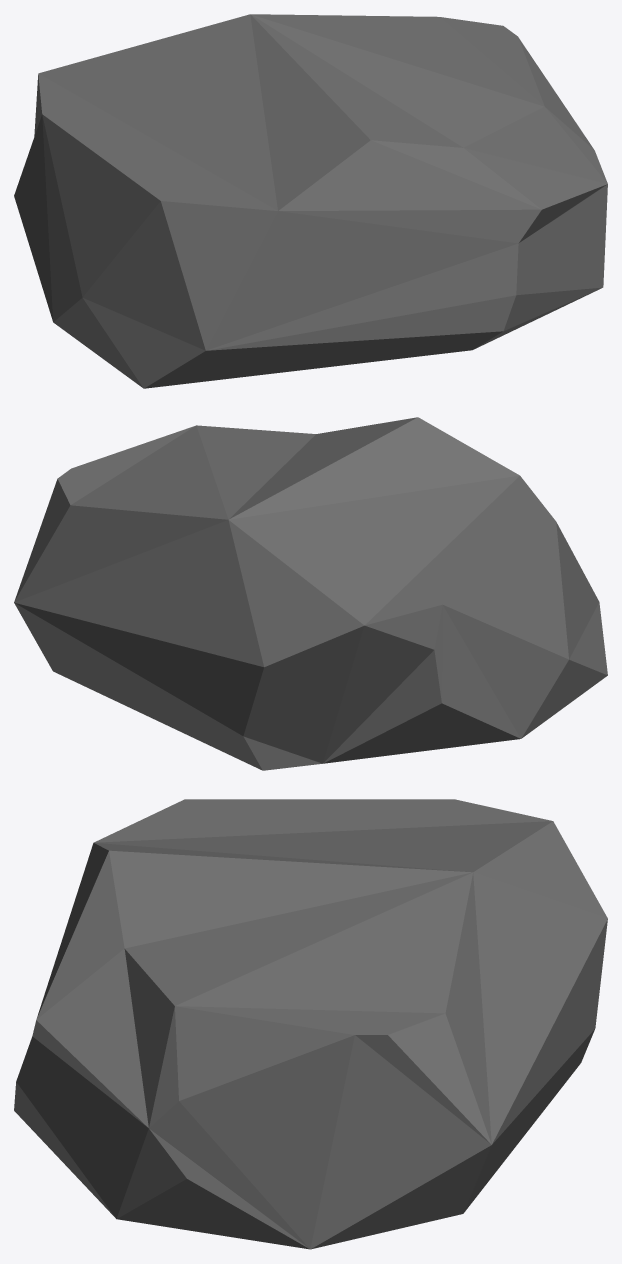
The model's file is Stone_A_05.FBX.
3 renders of one model, top to bottom at view 1: azimuth 30°, elevation 25°; view 2: azimuth 150°, elevation 25°; view 3: azimuth 270°, elevation 25°, orthographic. The views are drawn at different scales.
Parts seen in each view (by area): view 1: Stone_A_05; view 2: Stone_A_05; view 3: Stone_A_05.
Part boxes in pixels (box(x1,y1,x2,y2)): Stone_A_05: box(14, 14, 607, 388); Stone_A_05: box(14, 417, 607, 770); Stone_A_05: box(14, 799, 607, 1249).
Bounding box in the file's own units: 6.57 × 2.54 × 5.76.
